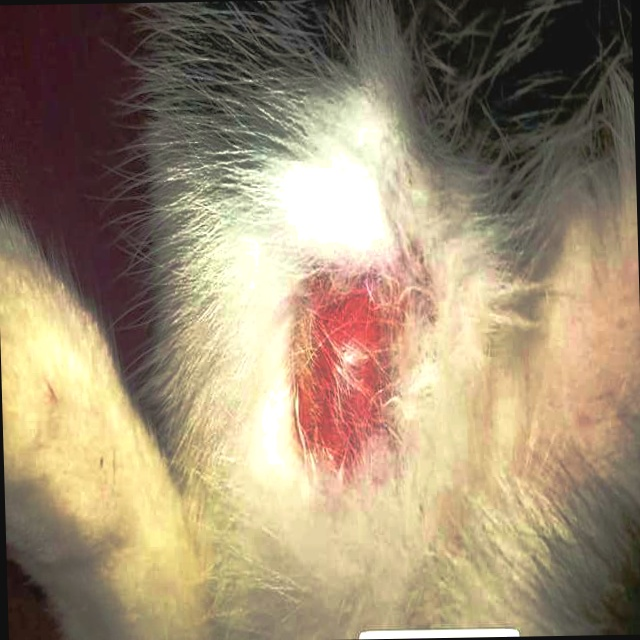lump_and_bump: (298, 291, 404, 443)
